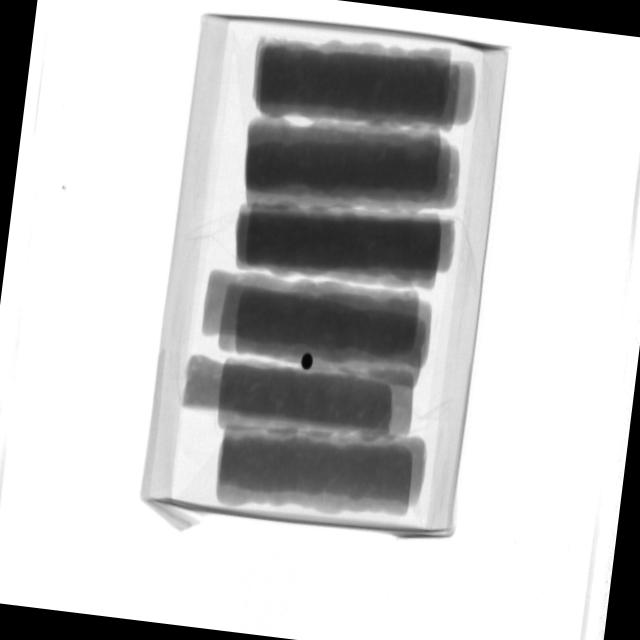ym: (302, 351, 316, 371)
